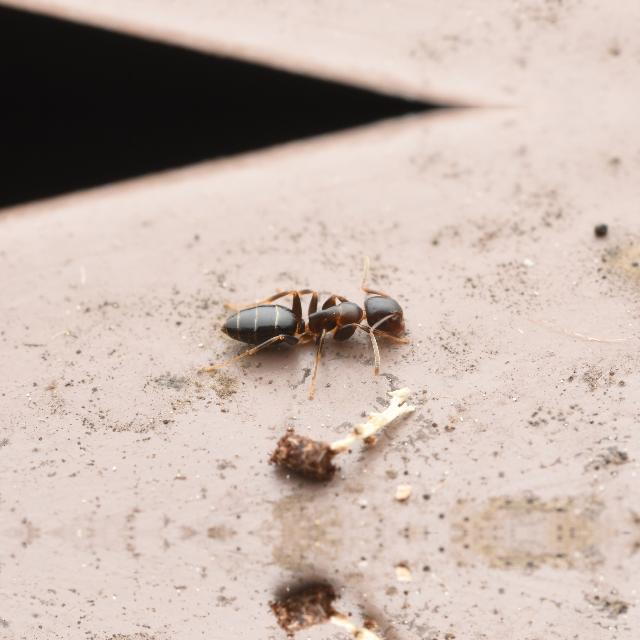Colobopsis: (200, 266, 436, 362)
